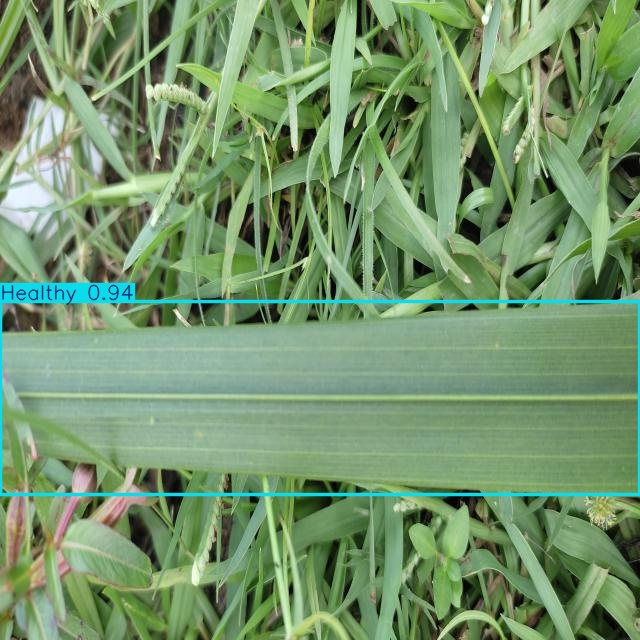Healthy: (0, 302, 640, 494)
